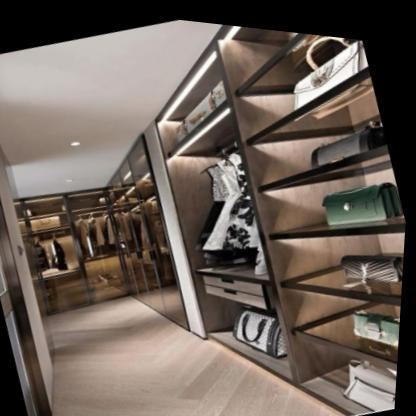Transparent Closet: (103, 20, 407, 407)
